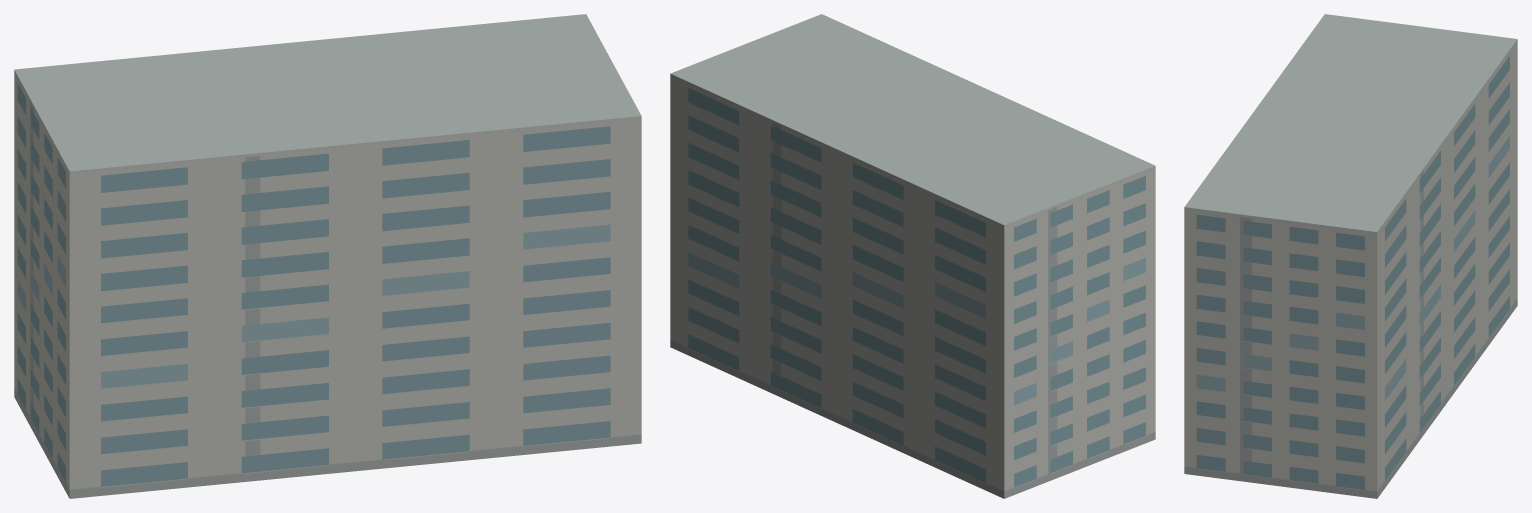
The model's file is residential-bab4f4f6-3016-41c6-a98f-996f48a7a7b6.glb.
The picture shows the model from 3 angles, left to right: view 1: azimuth 30°, elevation 25°; view 2: azimuth 150°, elevation 25°; view 3: azimuth 270°, elevation 25°; orthographic projection. The views are drawn at different scales.
Parts seen in each view (by area): view 1: residential-bab4f4f6-3016-41c6-a98f-996f48a7a7b6.tmp; view 2: residential-bab4f4f6-3016-41c6-a98f-996f48a7a7b6.tmp; view 3: residential-bab4f4f6-3016-41c6-a98f-996f48a7a7b6.tmp.
Part boxes in pixels (bbox=[...]): residential-bab4f4f6-3016-41c6-a98f-996f48a7a7b6.tmp: bbox=[14, 14, 641, 498]; residential-bab4f4f6-3016-41c6-a98f-996f48a7a7b6.tmp: bbox=[670, 14, 1155, 498]; residential-bab4f4f6-3016-41c6-a98f-996f48a7a7b6.tmp: bbox=[1184, 14, 1517, 498].
Bounding box in the file's own units: 49.11 × 28 × 31.7.
